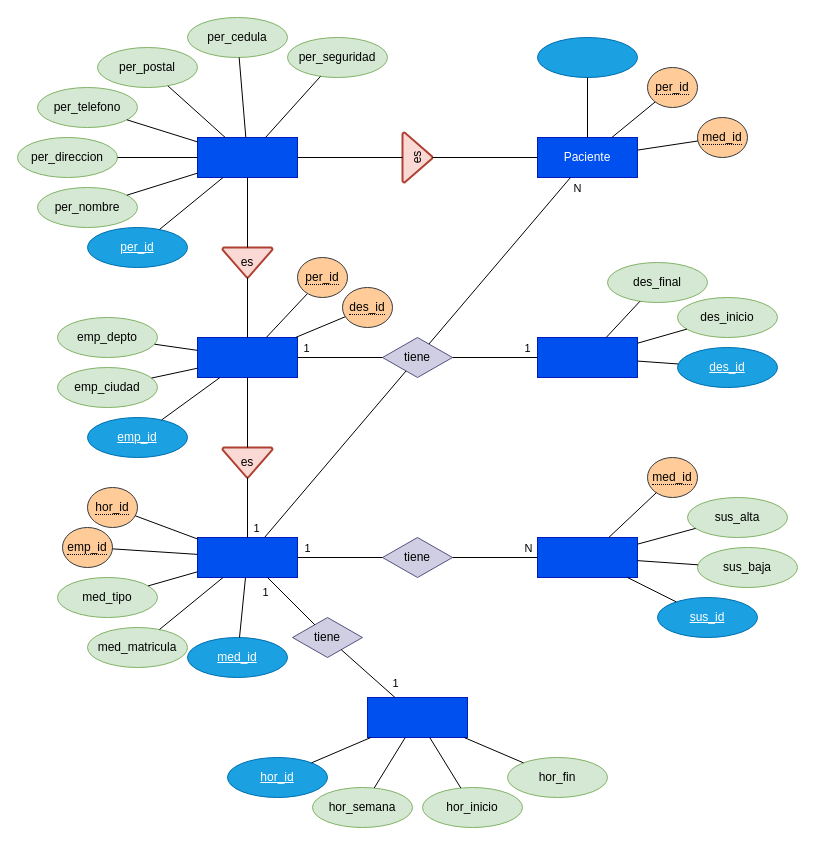
This 815x845 diagram has some shape labels left out. The centre of each missing label's shape, as x and y in pixels:
Descanso: [587,357]
Empleado: [247,357]
Horario: [417,717]
Medico: [247,557]
pac_id: [587,57]
Persona: [247,157]
Sustitución: [587,557]
